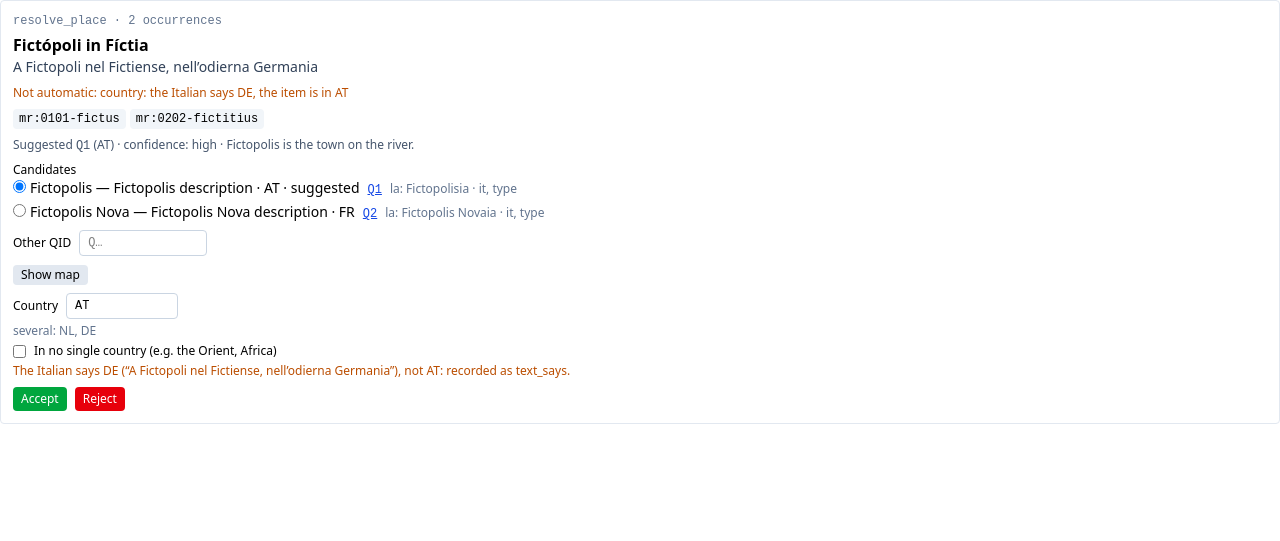
Test case: PlaceCard › shows an occurrence's Latin 2004 text alongside the Italian 2004
Click the button "mr:0202-fictitius" at point(197, 119), box x1=130 y1=109 x2=264 y2=129
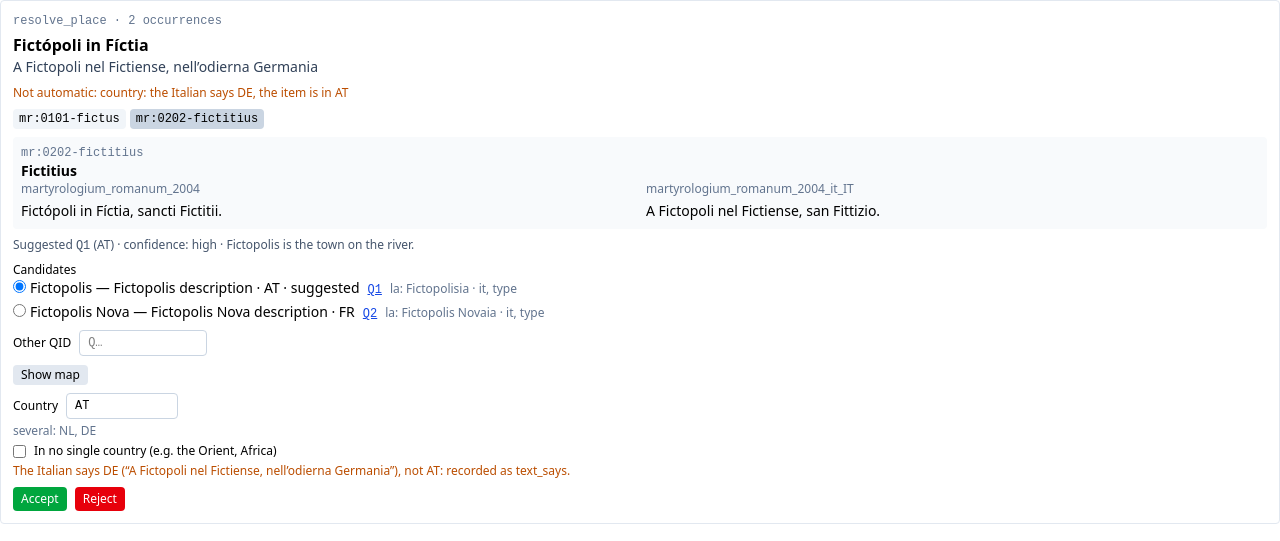
expect the text "Fictópoli in Fíctia, sancti Fictitii." is shown: met, box x1=21 y1=201 x2=222 y2=220
expect the text "A Fictopoli nel Fictiense, san Fittizio." is shown: met, box x1=646 y1=201 x2=880 y2=220
